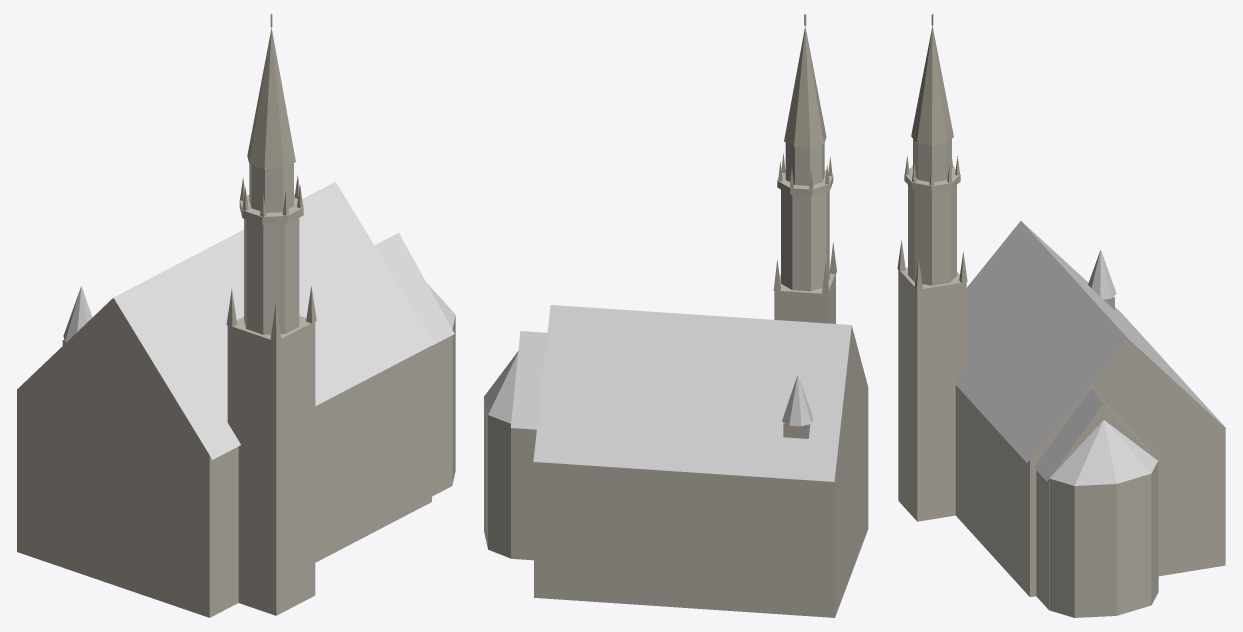
The model's file is matthias.glb.
3 renders of one model, left to right at view 1: azimuth 30°, elevation 25°; view 2: azimuth 150°, elevation 25°; view 3: azimuth 270°, elevation 25°, orthographic. The views are drawn at different scales.
Parts seen in each view (by area): view 1: matthias; view 2: matthias; view 3: matthias.
Part boxes in pixels (x1=…): matthias: x1=17, y1=14, x2=455, y2=617; matthias: x1=484, y1=14, x2=868, y2=617; matthias: x1=897, y1=14, x2=1226, y2=617.
Bounding box in the file's own units: 65.89 × 88.75 × 54.01.
